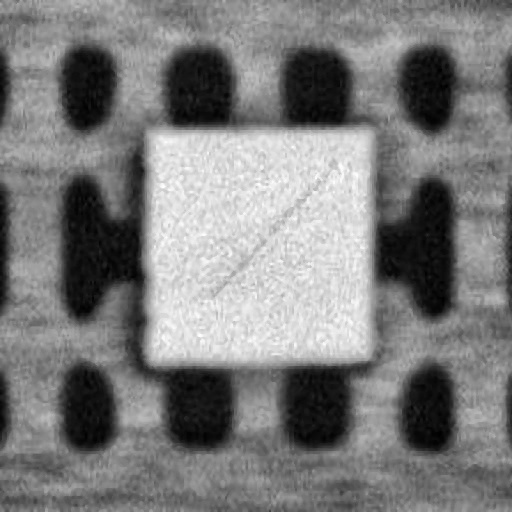DIE_CRACK: (313, 108, 499, 197)
